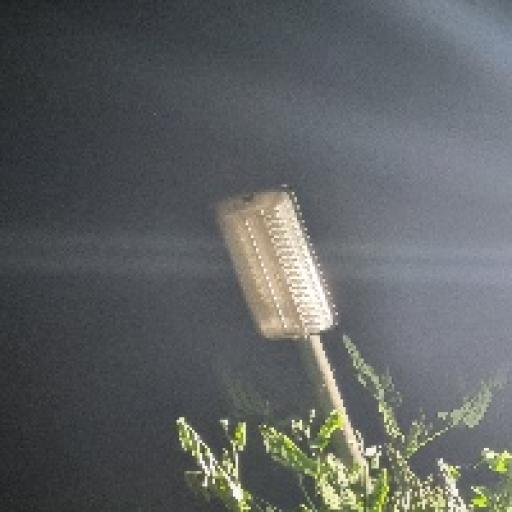Not Working: (202, 171, 358, 356)
